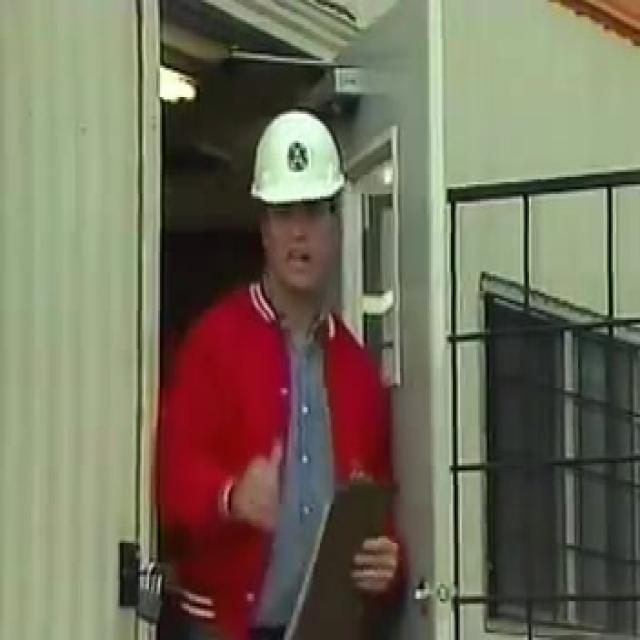safety_helmet: (235, 97, 360, 225)
